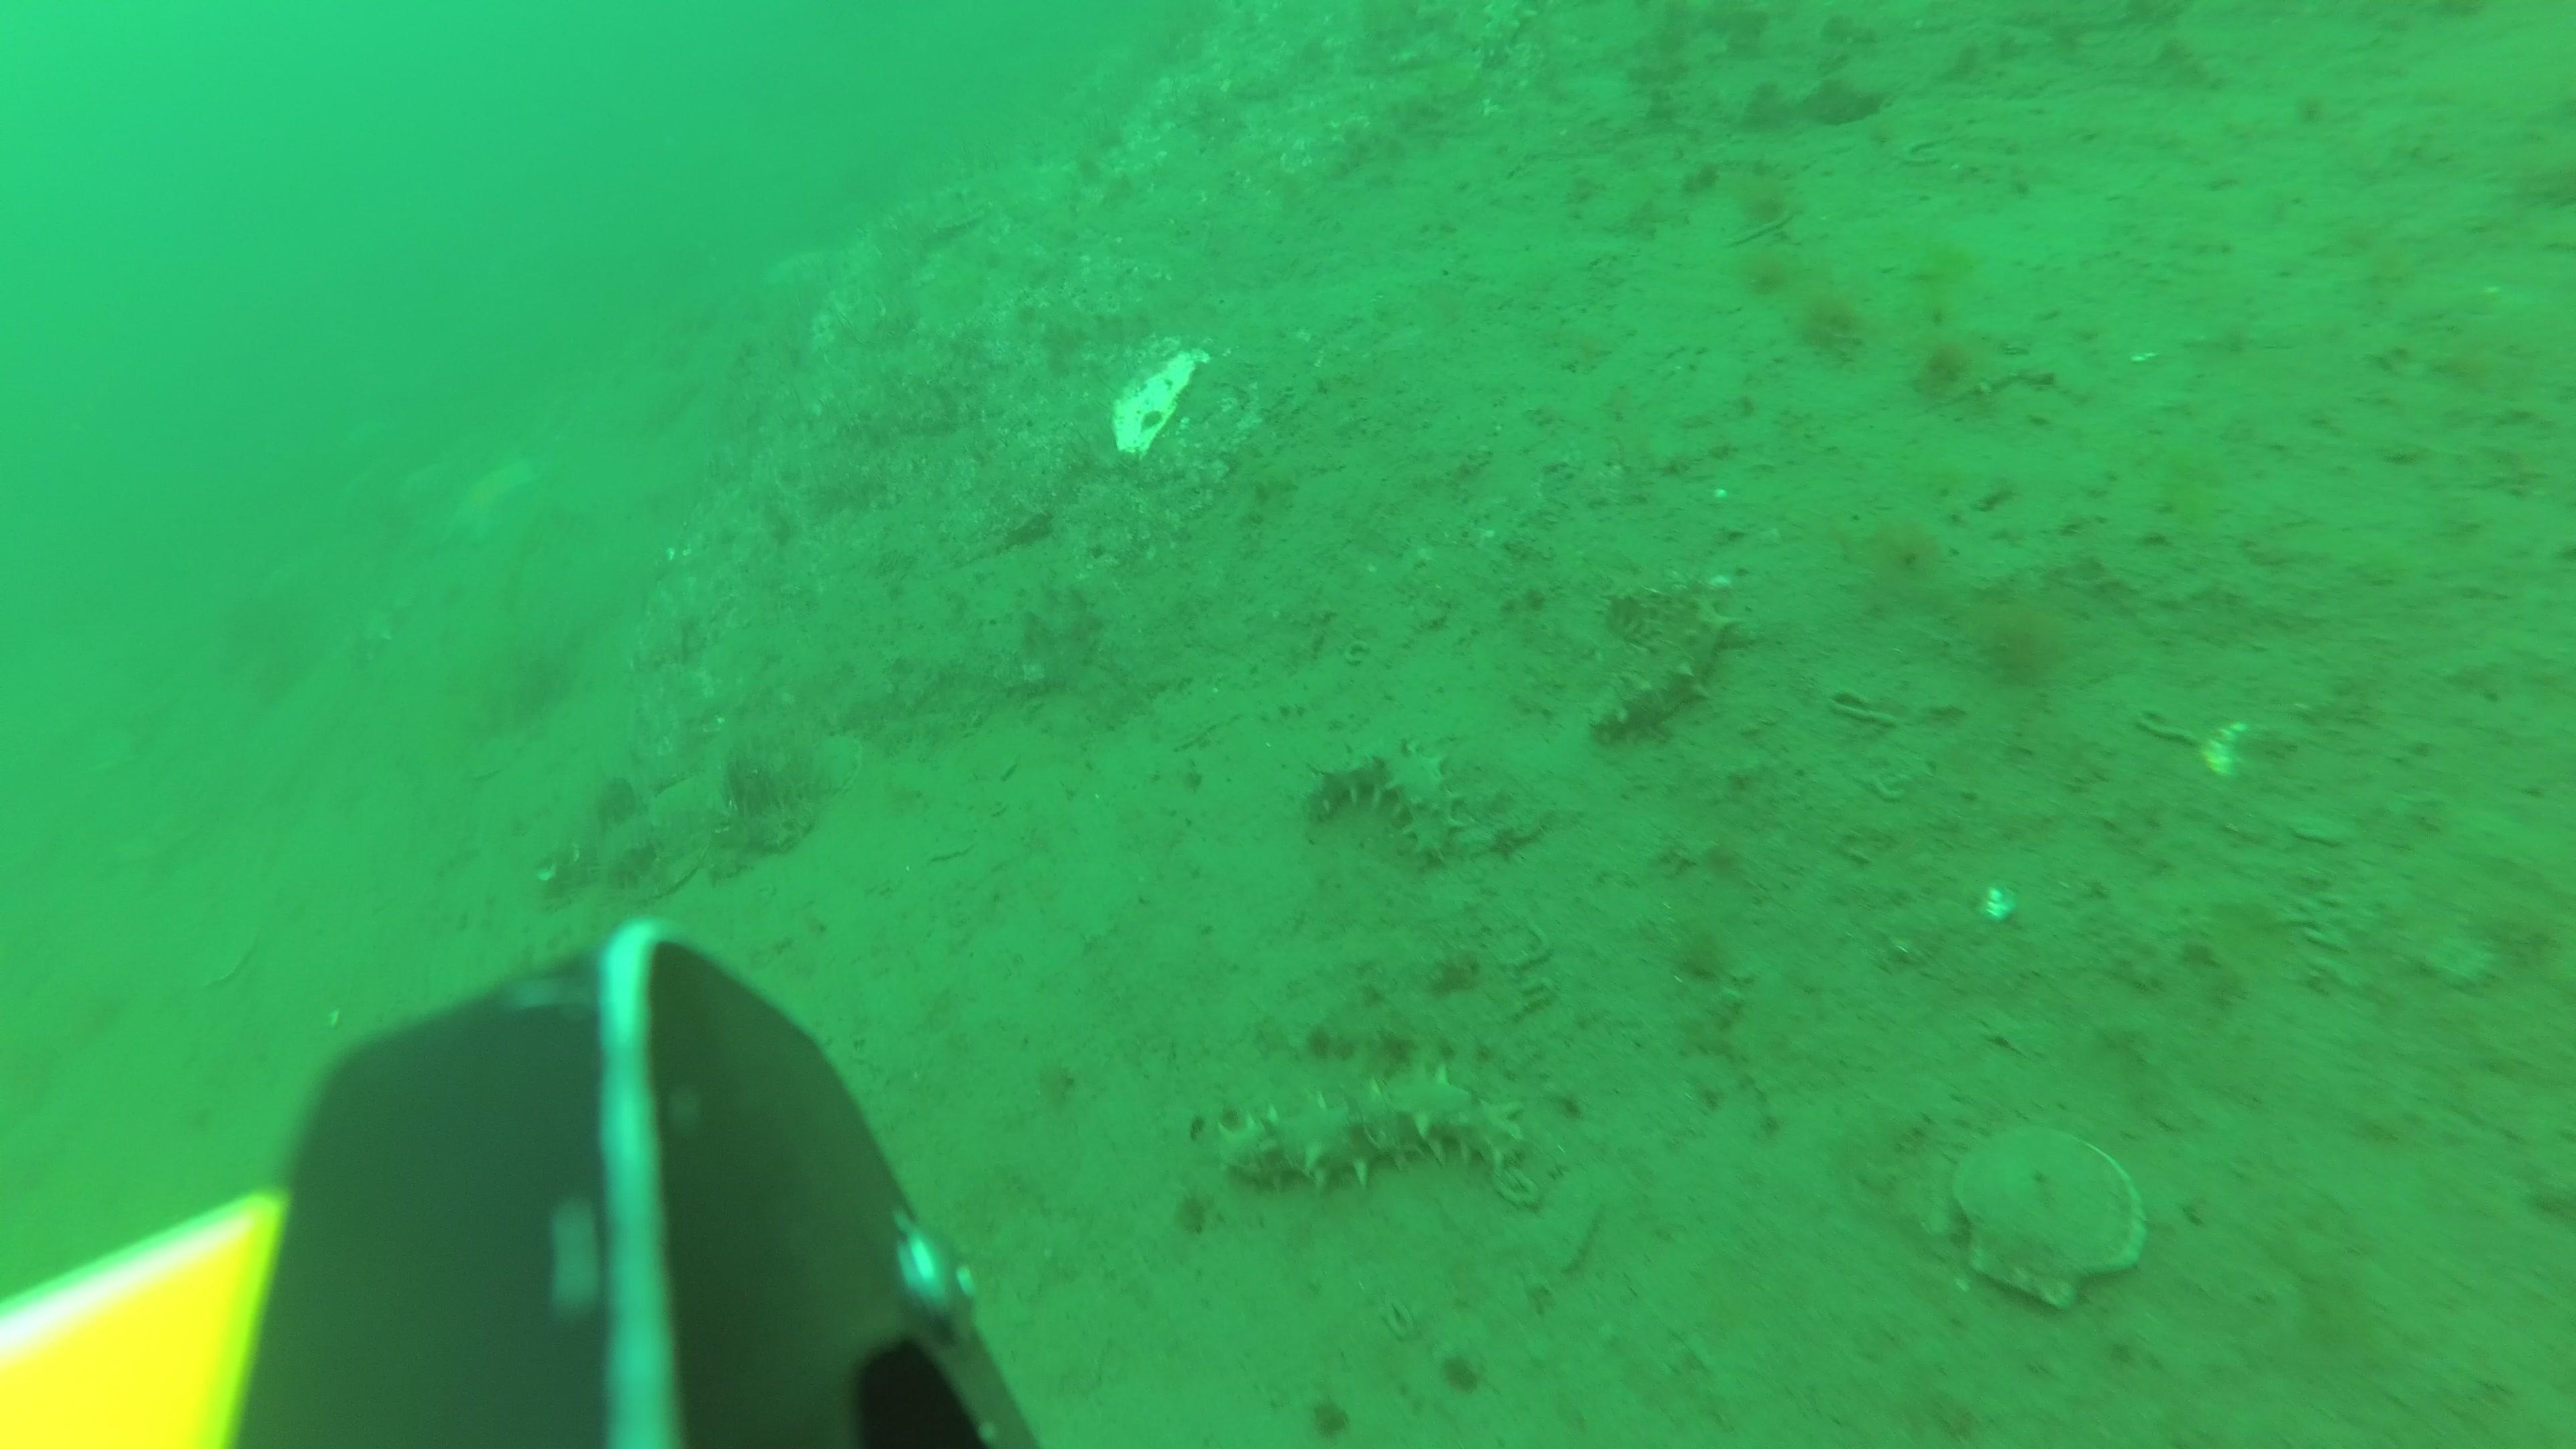holothurian: (1215, 1069, 1527, 1194), (1596, 579, 1737, 738), (1311, 736, 1463, 867)
scallop: (1955, 1120, 2143, 1309)
starfish: (449, 453, 536, 552)
